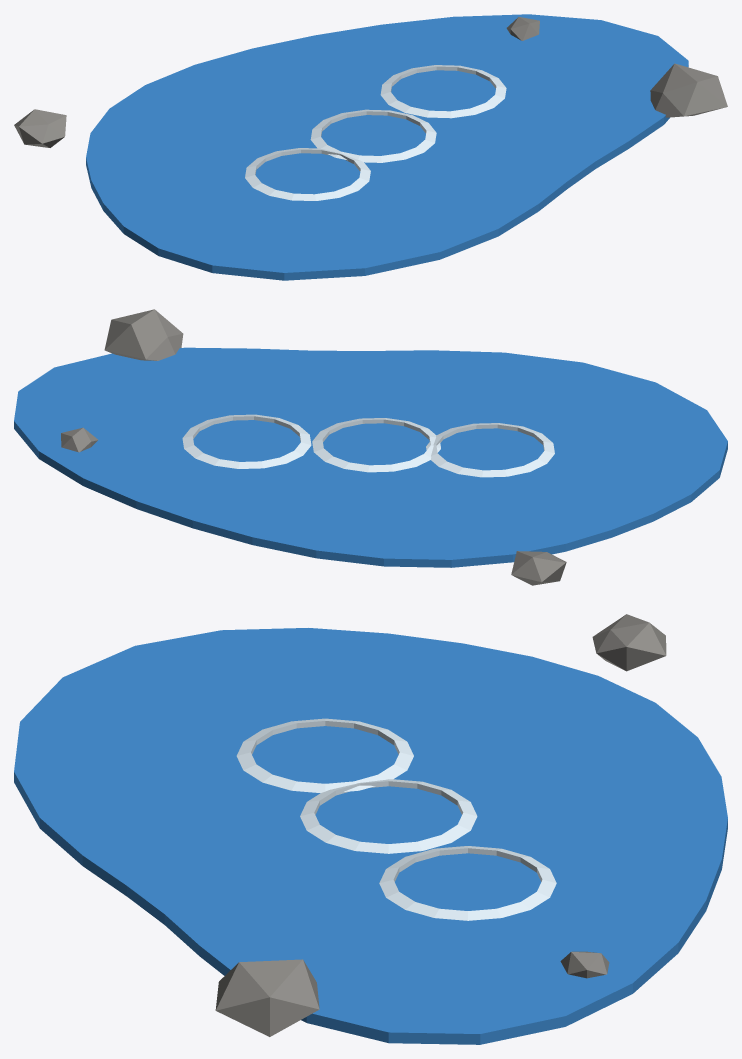
File: puddle-water-pixor.glb
3 views of the same model, one above another, from view 1: azimuth 30°, elevation 25°; view 2: azimuth 150°, elevation 25°; view 3: azimuth 270°, elevation 25° (orthographic). The views are drawn at different scales.
Visible parts, largest first — view 1: Puddle water, Puddle ripples, Puddle pebbles; view 2: Puddle water, Puddle ripples, Puddle pebbles; view 3: Puddle water, Puddle ripples, Puddle pebbles.
Part boxes in pixels (x1,y1,x2,y2): Puddle water: (86,14,688,280); Puddle ripples: (245,65,506,200); Puddle pebbles: (14,17,727,147); Puddle water: (14,347,727,567); Puddle ripples: (182,414,554,477); Puddle pebbles: (61,309,566,585); Puddle water: (14,628,727,1044); Puddle ripples: (236,718,556,920); Puddle pebbles: (215,614,666,1036).
Bounding box in the file's own units: 1.21 × 0.0743 × 0.9007.
